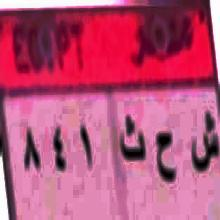1: (77, 119, 97, 173)
4: (50, 121, 68, 179)
7aa: (150, 124, 182, 186)
8: (21, 116, 45, 177)
sheen: (190, 103, 219, 183)
thaa: (119, 105, 147, 171)
